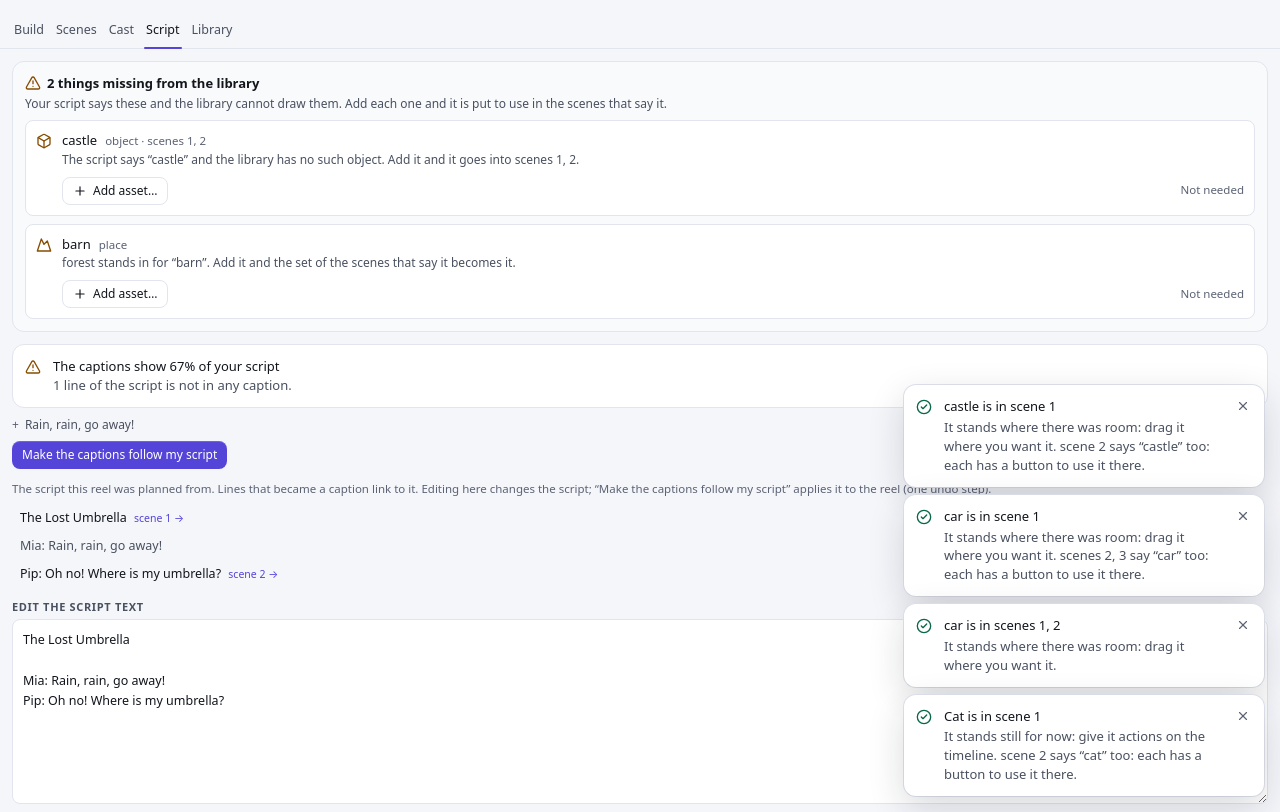
the Studio shows the warning wherever you are › lists them all in the Script tab, each with the scenes that say it
Expected: the heading "2 things missing from the library" is shown, [25,74,259,92]
Expected: the text "object · scenes 1, 2" is shown, [105,133,206,150]
Click the 2nd button "Not needed".
click(1212, 294)  # box [1180,286,1244,302]
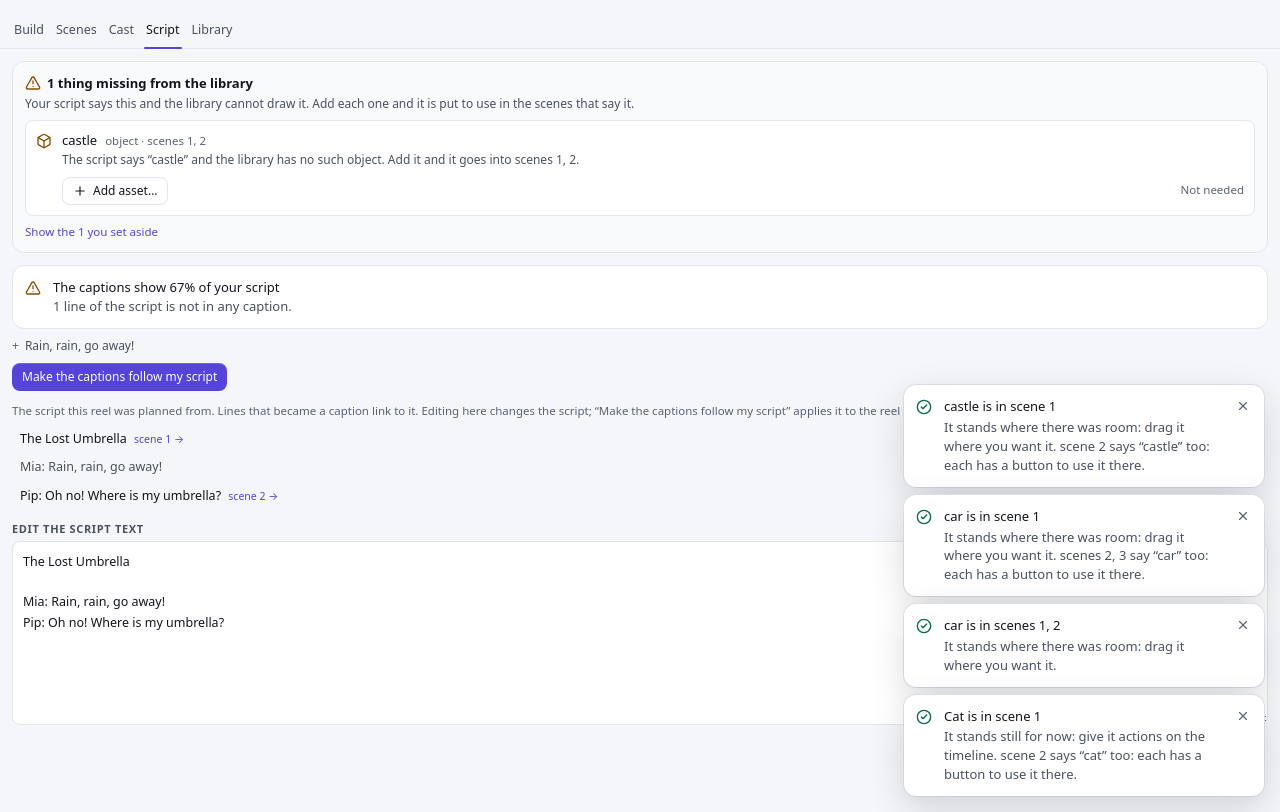
Result: the heading "1 thing missing from the library" is shown at [25,74,253,92]
Click the button "Show the 1 you set aside".
click(92, 232)  # box [25,224,158,240]
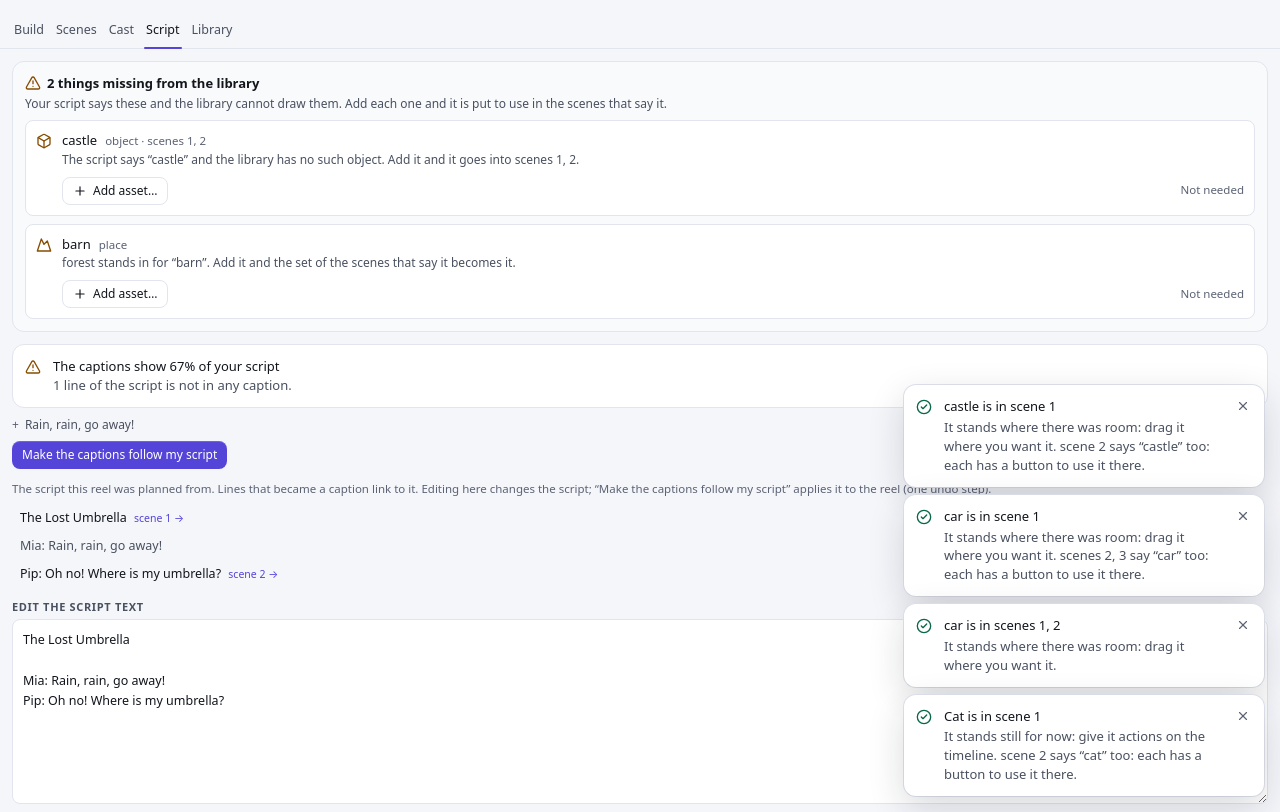
Result: the heading "2 things missing from the library" is shown at [25,74,259,92]
